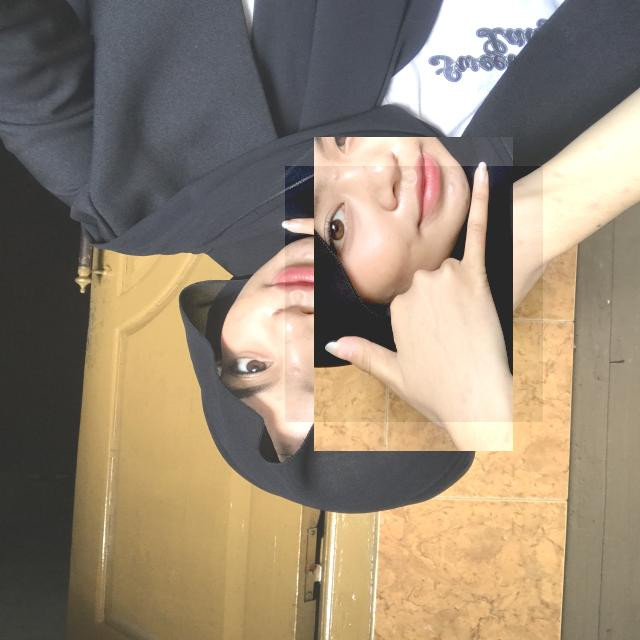telpon: (285, 166, 543, 422)
